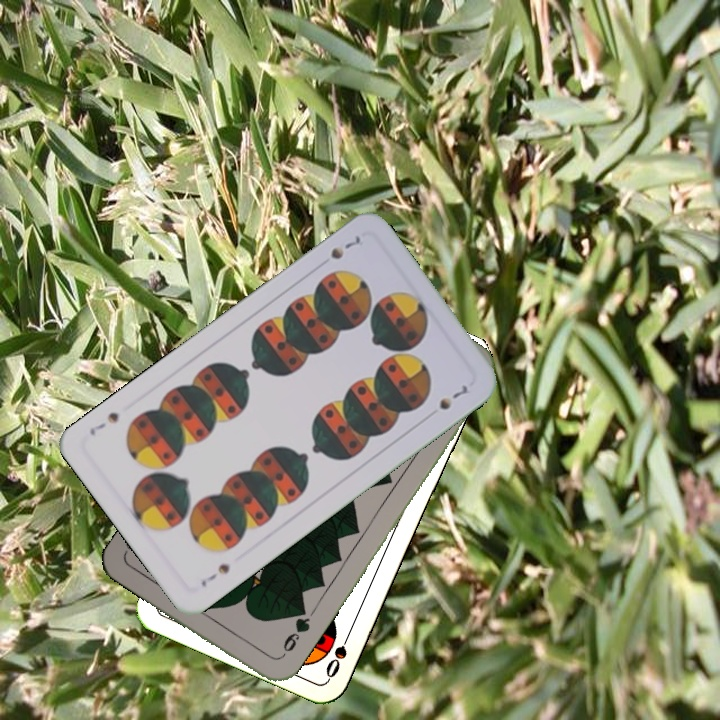G9: (275, 606, 313, 661)
S7: (326, 231, 366, 263), (196, 559, 234, 590)
SO: (321, 625, 355, 681)
